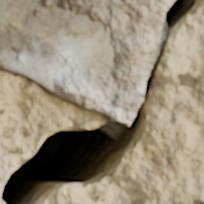brick: (0, 0, 173, 124)
crack: (0, 0, 203, 203)
